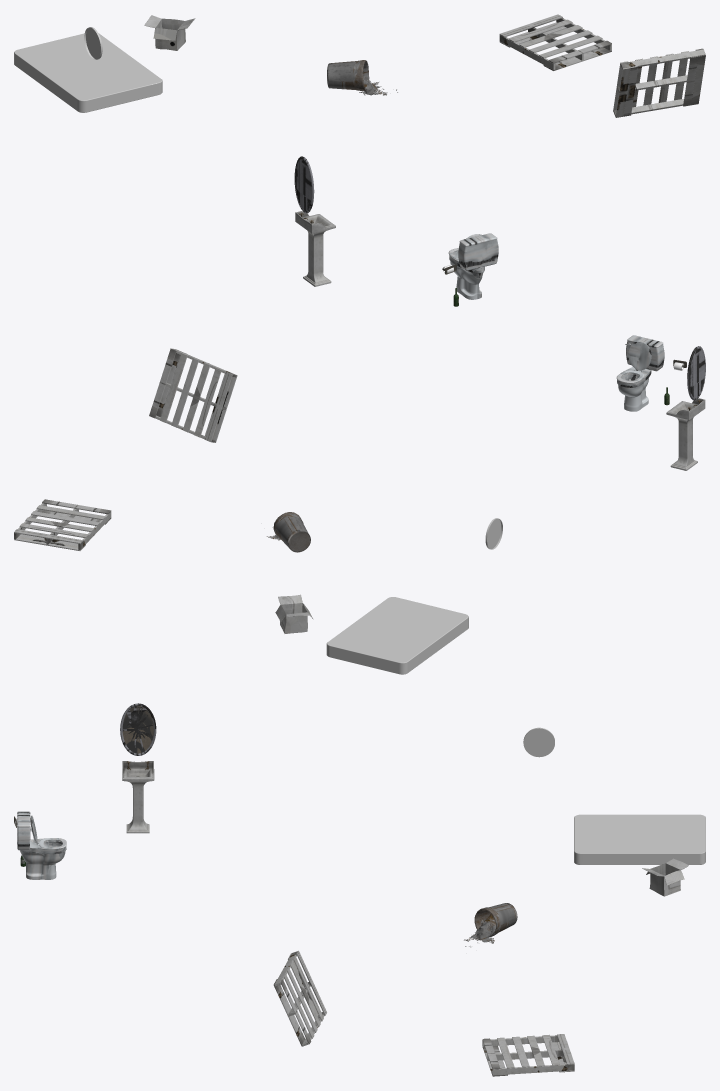
File: HouseFurniture(Bathroom&Bedroom).gltf
The picture shows the model from 3 angles, top to bottom: view 1: azimuth 30°, elevation 25°; view 2: azimuth 150°, elevation 25°; view 3: azimuth 270°, elevation 25°; orthographic projection. The views are drawn at different scales.
Parts seen in each view (by area): view 1: MS_Mattress_Hard, pallet_2_pallet_and_boxes_0, pallet_1_pallet_and_boxes_0, defaultMaterial, defaultMaterial.001, Mesher001_21 - Default_0.001, boxes_1_pallet_and_boxes_0, defaultMaterial.012, MS_Dartboard; view 2: MS_Mattress_Hard, pallet_2_pallet_and_boxes_0, pallet_1_pallet_and_boxes_0, defaultMaterial, defaultMaterial.001, Mesher001_21 - Default_0.001, boxes_1_pallet_and_boxes_0, defaultMaterial.012; view 3: MS_Mattress_Hard, pallet_1_pallet_and_boxes_0, pallet_2_pallet_and_boxes_0, defaultMaterial, defaultMaterial.001, Mesher001_21 - Default_0.001, boxes_1_pallet_and_boxes_0, defaultMaterial.012, defaultMaterial.010, MS_Dartboard.
Part boxes in pixels (bbox=[...]): MS_Mattress_Hard: bbox=[14, 33, 162, 112]; pallet_2_pallet_and_boxes_0: bbox=[613, 48, 705, 117]; pallet_1_pallet_and_boxes_0: bbox=[499, 14, 611, 70]; defaultMaterial: bbox=[448, 233, 498, 299]; defaultMaterial.001: bbox=[295, 211, 335, 286]; Mesher001_21 - Default_0.001: bbox=[327, 60, 397, 95]; boxes_1_pallet_and_boxes_0: bbox=[144, 15, 195, 50]; defaultMaterial.012: bbox=[294, 156, 314, 213]; MS_Dartboard: bbox=[84, 27, 102, 59]; MS_Mattress_Hard: bbox=[326, 597, 468, 674]; pallet_2_pallet_and_boxes_0: bbox=[149, 348, 237, 442]; pallet_1_pallet_and_boxes_0: bbox=[14, 499, 111, 550]; defaultMaterial: bbox=[616, 335, 664, 411]; defaultMaterial.001: bbox=[666, 398, 705, 470]; Mesher001_21 - Default_0.001: bbox=[266, 512, 310, 552]; boxes_1_pallet_and_boxes_0: bbox=[275, 594, 313, 633]; defaultMaterial.012: bbox=[687, 346, 705, 400]; MS_Mattress_Hard: bbox=[574, 814, 705, 864]; pallet_1_pallet_and_boxes_0: bbox=[482, 1034, 574, 1076]; pallet_2_pallet_and_boxes_0: bbox=[273, 950, 326, 1046]; defaultMaterial: bbox=[17, 811, 66, 879]; defaultMaterial.001: bbox=[122, 761, 154, 833]; Mesher001_21 - Default_0.001: bbox=[464, 903, 517, 947]; boxes_1_pallet_and_boxes_0: bbox=[642, 858, 688, 896]; defaultMaterial.012: bbox=[120, 703, 156, 755]; defaultMaterial.010: bbox=[122, 705, 153, 753]; MS_Dartboard: bbox=[523, 727, 554, 757].
Size of the model in its own units: 30.85 by 9.03 by 39.3.
